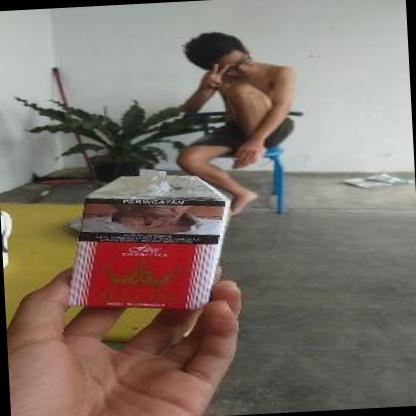objects: (63, 187, 236, 316)
